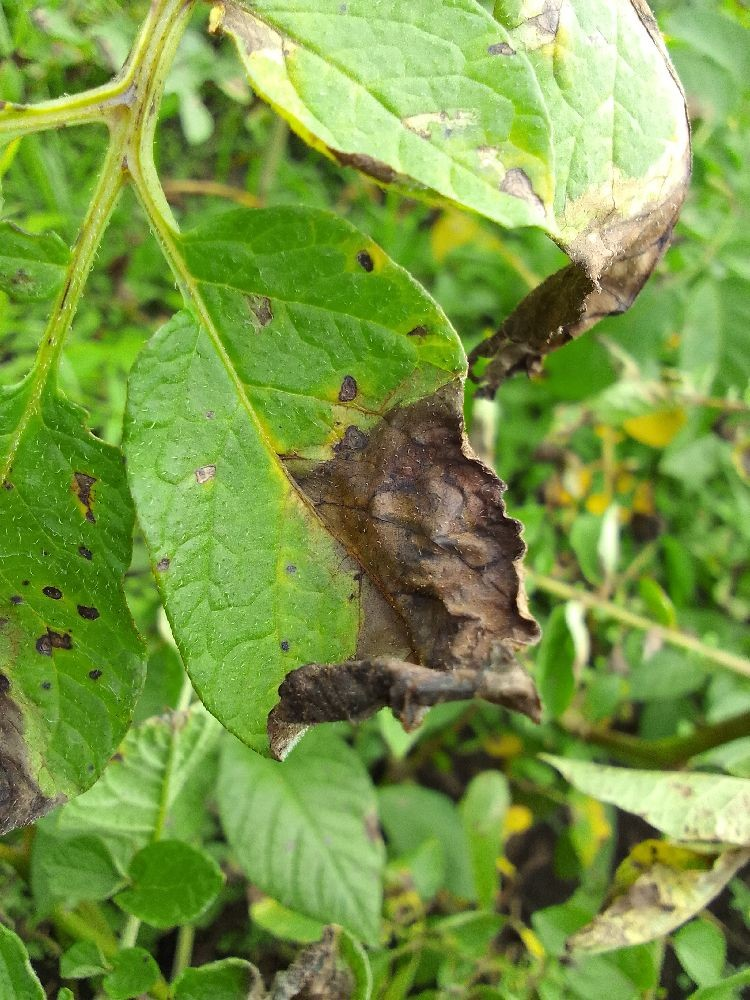late_blight: (250, 166, 706, 813), (137, 834, 380, 1000), (539, 786, 696, 986), (0, 646, 77, 922)
